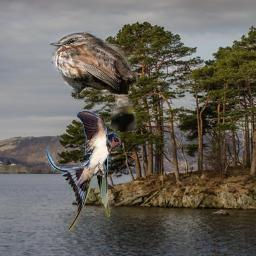Sparrow: (50, 31, 138, 132)
Swallow: (46, 111, 121, 231)
